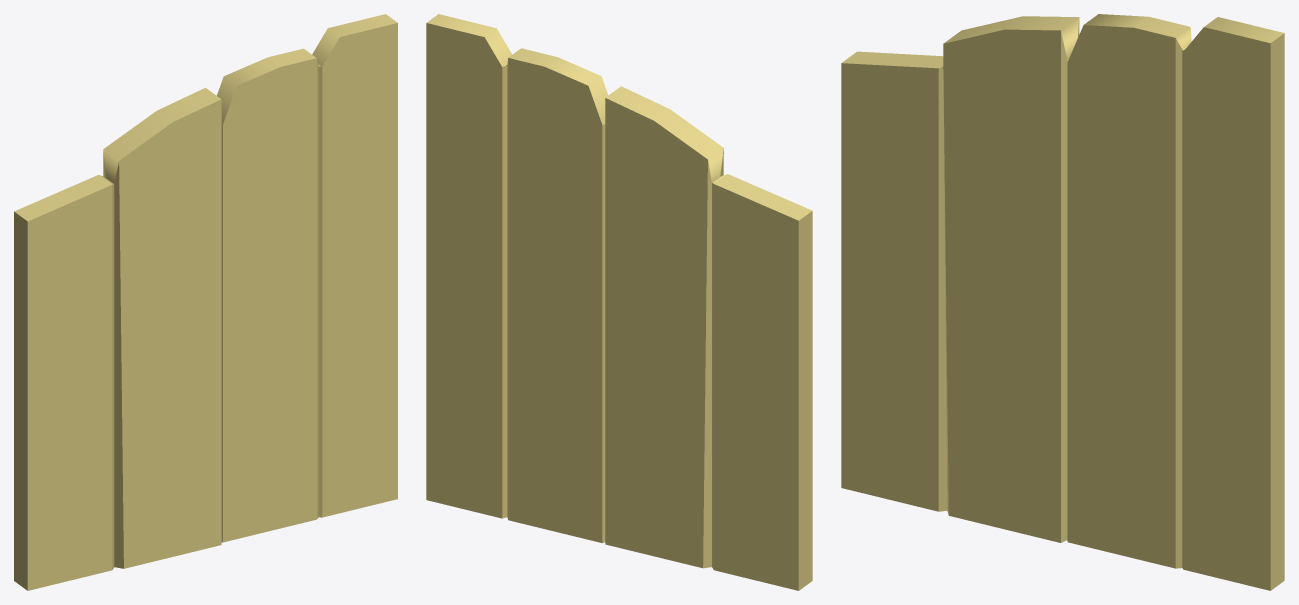
File: men.fbx
3 views of the same model, side by side, from view 1: azimuth 30°, elevation 25°; view 2: azimuth 150°, elevation 25°; view 3: azimuth 330°, elevation 25° (orthographic). The views are drawn at different scales.
Visible parts, largest first — view 1: pCube1; view 2: pCube1; view 3: pCube1.
Part boxes in pixels (x1,y1,x2,y2): pCube1: (14,14,397,590); pCube1: (426,14,812,590); pCube1: (841,14,1284,590).
Bounding box in the file's own units: 7.93 × 9.71 × 0.5861.
